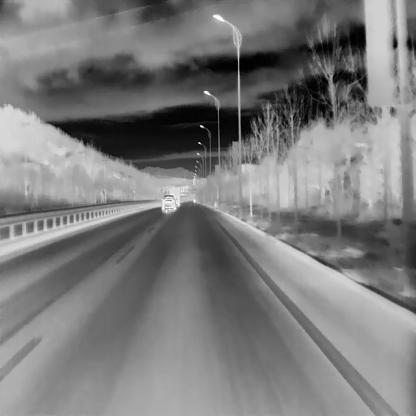car: (161, 194, 176, 211)
truck: (170, 187, 180, 205)
